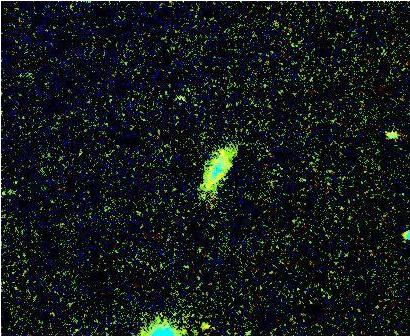star: (191, 309, 221, 336)
